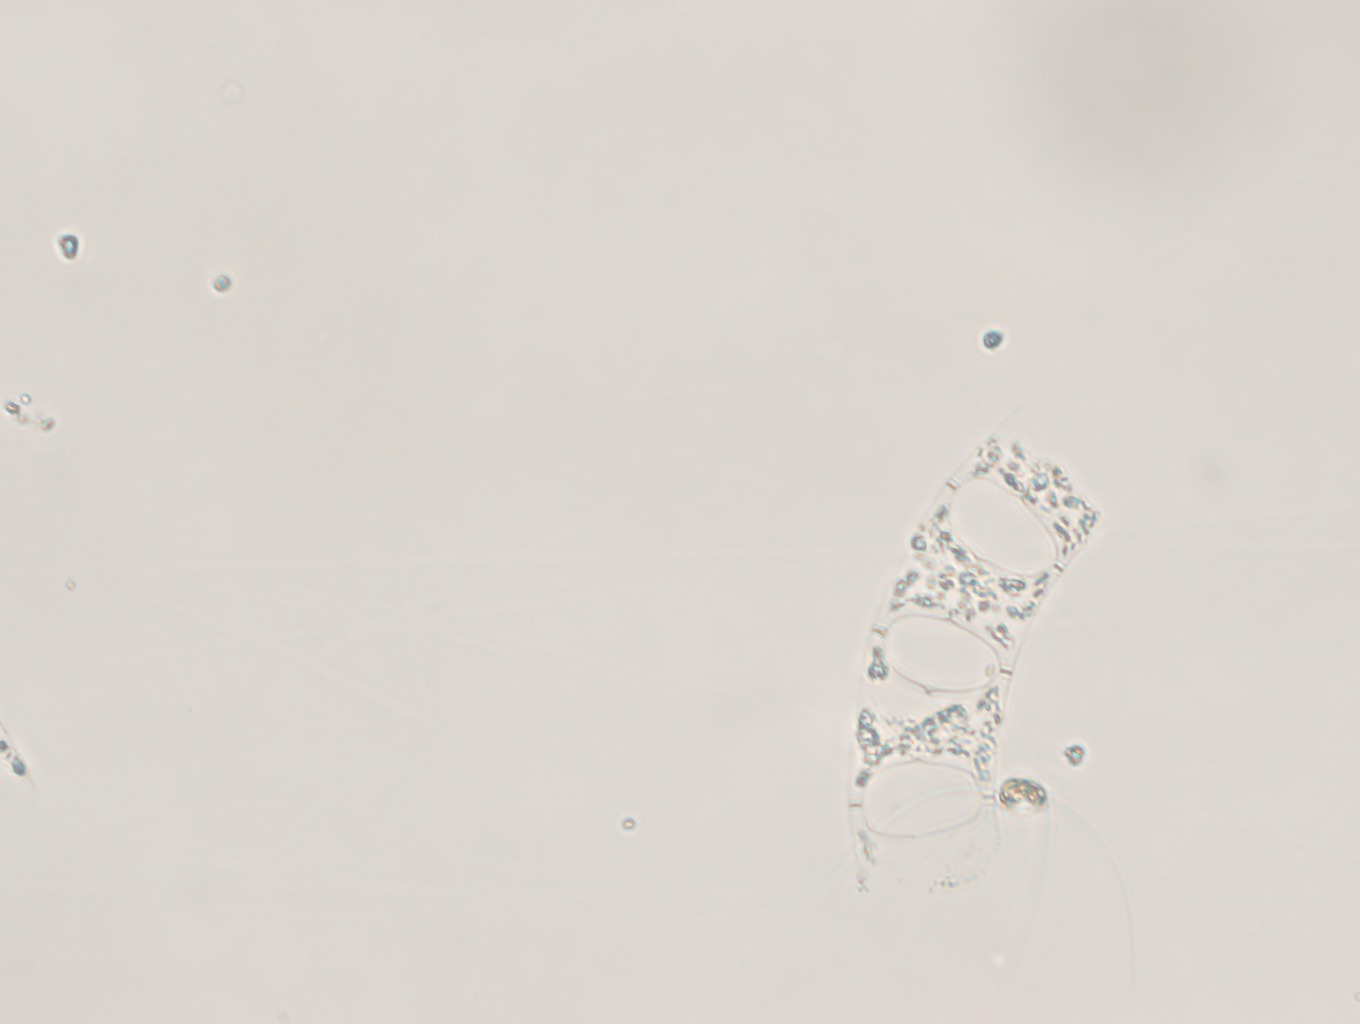eucampia: (850, 417, 1107, 907)
